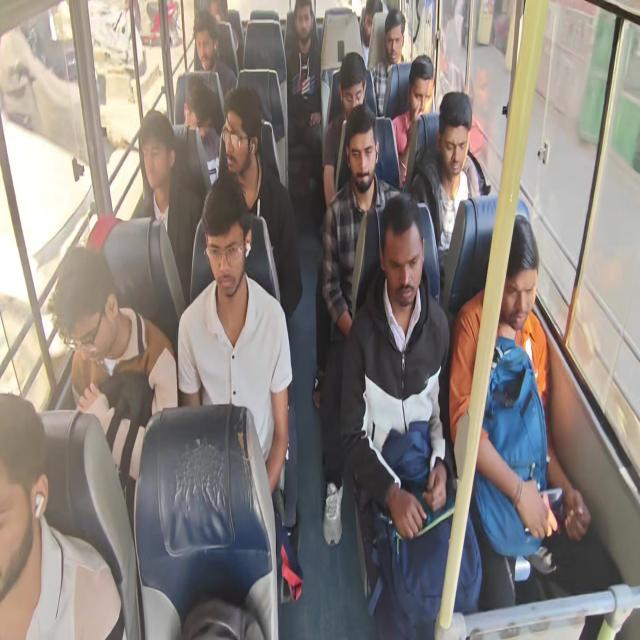person: (0, 393, 50, 610), (49, 249, 135, 363), (379, 218, 427, 303), (206, 189, 246, 285), (496, 235, 534, 330), (139, 124, 175, 194), (224, 103, 260, 169), (348, 130, 383, 192), (438, 112, 472, 173), (407, 61, 433, 124), (382, 21, 412, 71), (183, 86, 214, 134), (191, 20, 219, 72), (338, 64, 367, 114), (292, 2, 316, 47), (361, 6, 382, 42), (202, 2, 232, 26)
